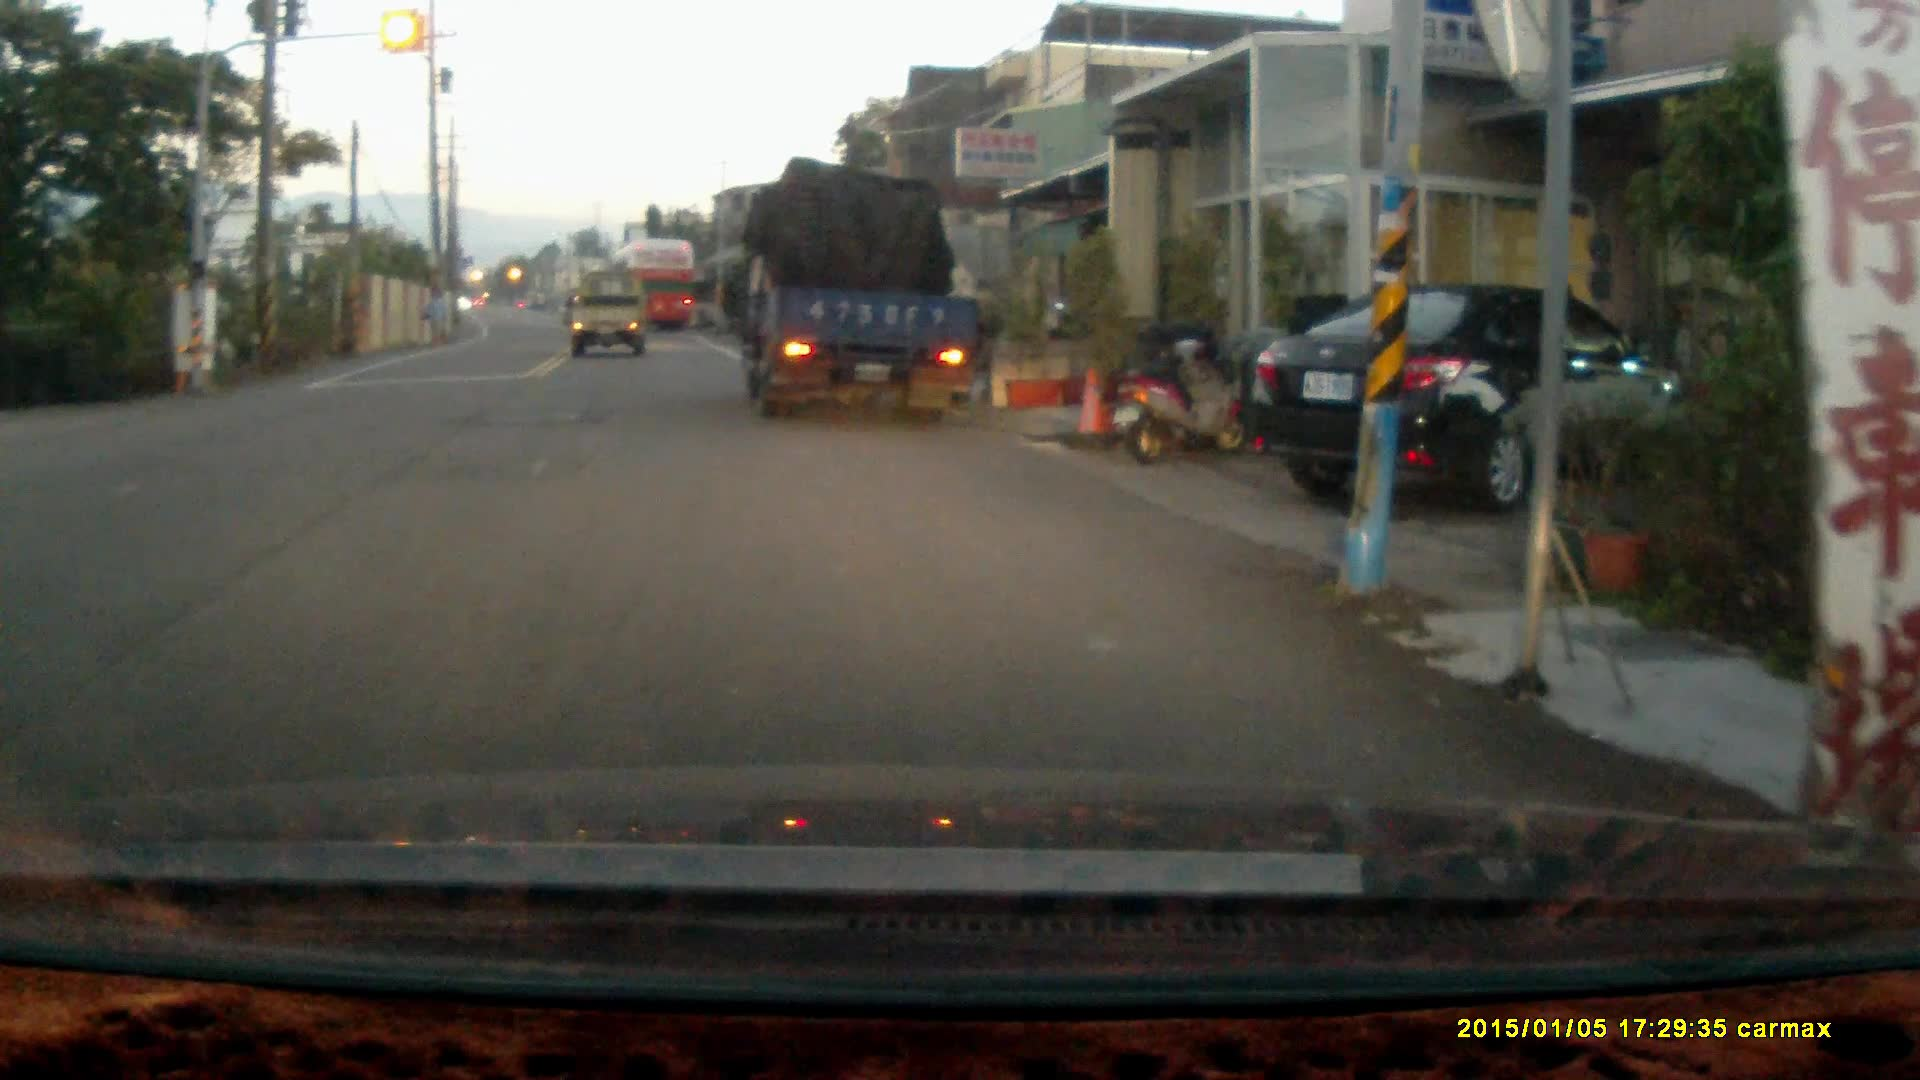vehicle: (1246, 278, 1688, 513), (723, 166, 982, 417), (615, 237, 699, 338), (570, 280, 646, 360)
